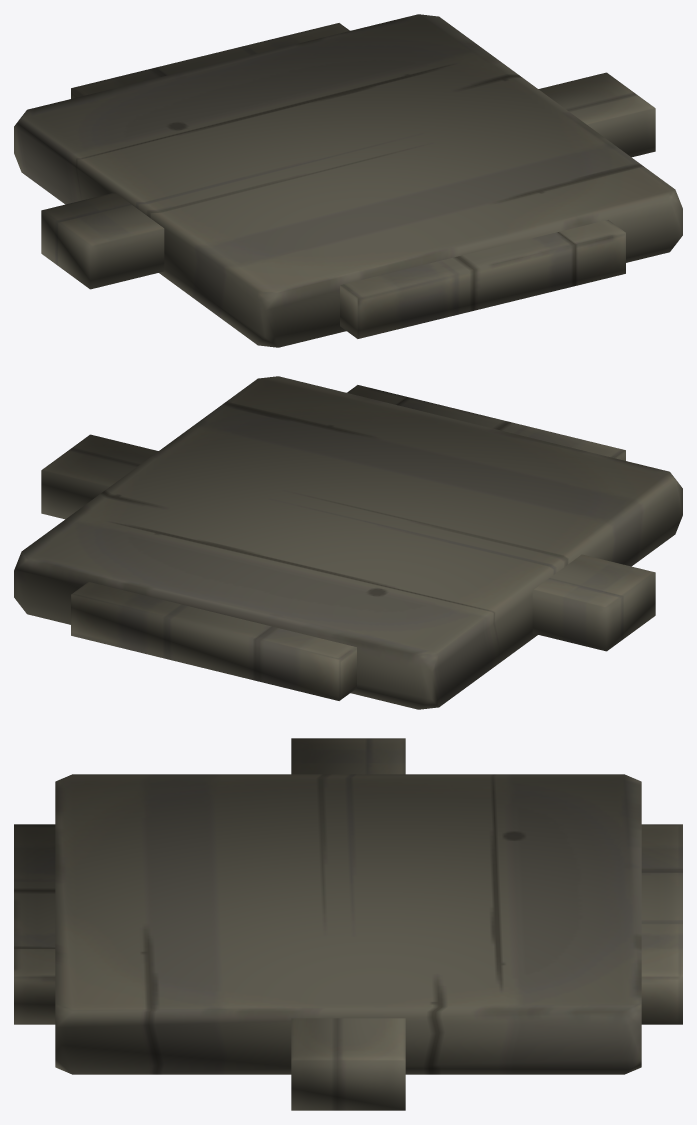
File: plank_chuchoteur_01.fbx
3 views of the same model, one above another, from view 1: azimuth 30°, elevation 25°; view 2: azimuth 150°, elevation 25°; view 3: azimuth 270°, elevation 25° (orthographic). The views are drawn at different scales.
Visible parts, largest first — view 1: plank_chuchoteur_01b, plank_chuchoteur_01a, plank_chuchoteur_01c; view 2: plank_chuchoteur_01b, plank_chuchoteur_01a, plank_chuchoteur_01c; view 3: plank_chuchoteur_01b, plank_chuchoteur_01a, plank_chuchoteur_01c.
Boxes of the visible parts, bbox=[...] form: plank_chuchoteur_01b: bbox=[14, 14, 682, 347]; plank_chuchoteur_01a: bbox=[71, 23, 625, 338]; plank_chuchoteur_01c: bbox=[41, 72, 655, 289]; plank_chuchoteur_01b: bbox=[14, 376, 682, 709]; plank_chuchoteur_01a: bbox=[71, 385, 625, 700]; plank_chuchoteur_01c: bbox=[41, 434, 655, 651]; plank_chuchoteur_01b: bbox=[55, 774, 641, 1074]; plank_chuchoteur_01a: bbox=[14, 824, 682, 1024]; plank_chuchoteur_01c: bbox=[291, 738, 405, 1110].
Size of the model in its own units: 130 by 11.85 by 114.
1 material, 1 textured.
